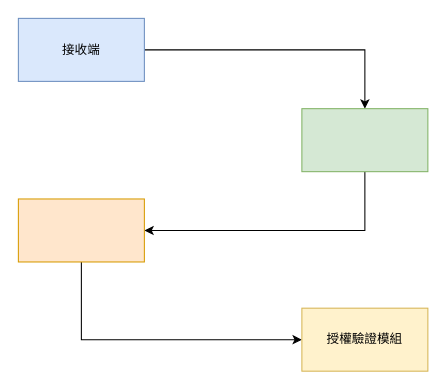
Image size: 446x390. Some labels were removed from this diagram. The shapes that lost their labels are listed below. From the top down, each one's box as (x1, y1, x2, y2) in pixels, then its label:
(301, 108, 428, 172): 編碼處理模組
(17, 198, 144, 262): 傳輸模組
